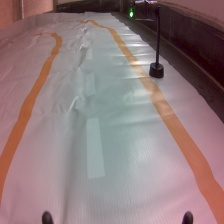green: (127, 1, 166, 80)
